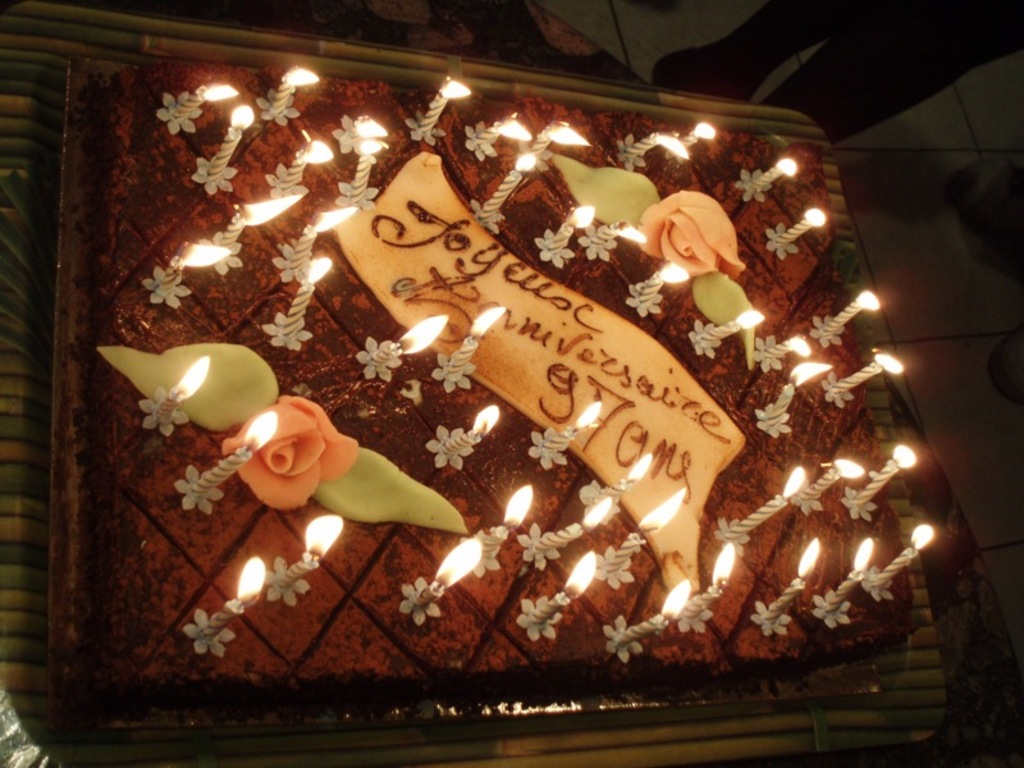cake: (93, 52, 914, 722)
